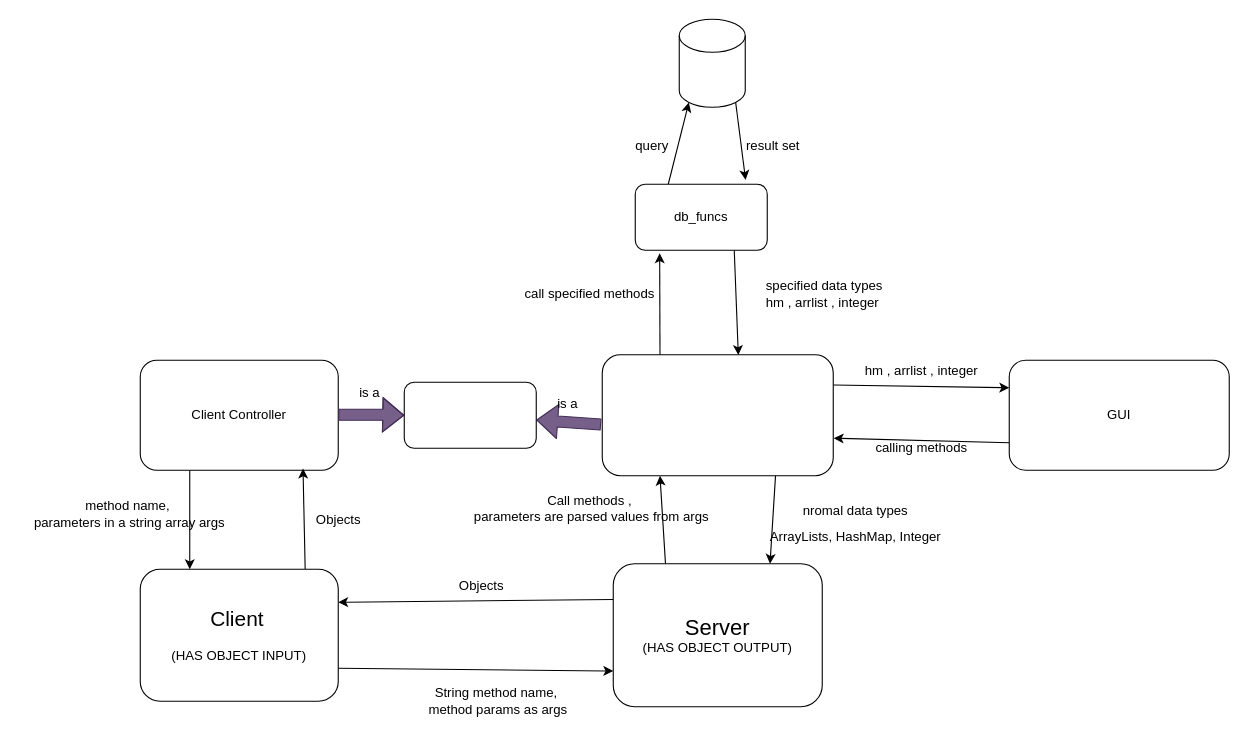
Image size: 1249x743. Some labels were removed from this diagram. Each missing label, with the box of its shape:
Controller Abstract Class: (403, 381, 536, 448)
deniz.db: (678, 18, 745, 107)
Server Controller: (601, 354, 833, 476)
